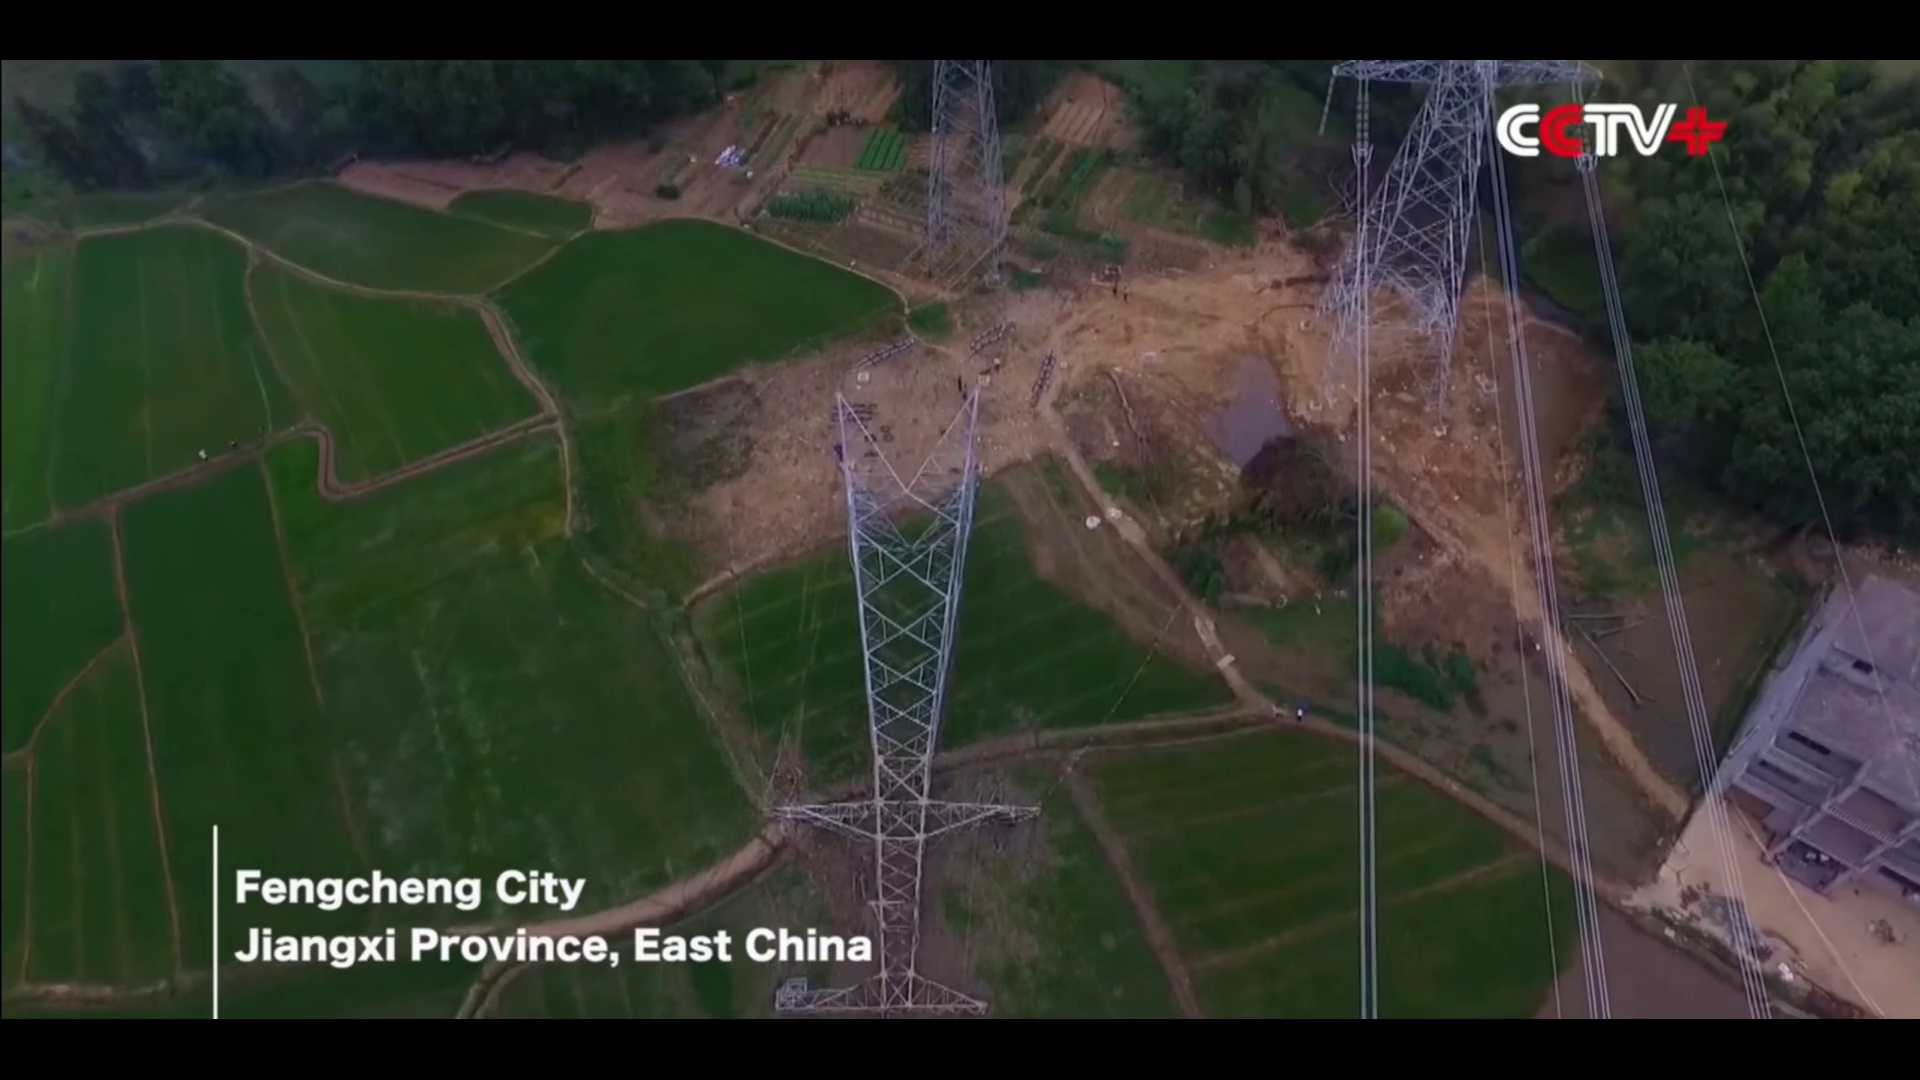tower_down: (786, 375, 1040, 1017)
